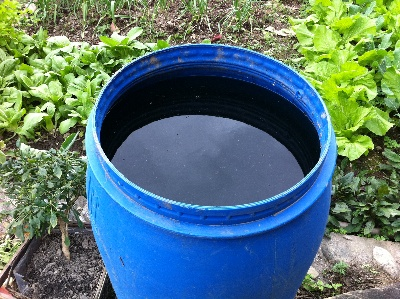bucket: (81, 42, 339, 299)
